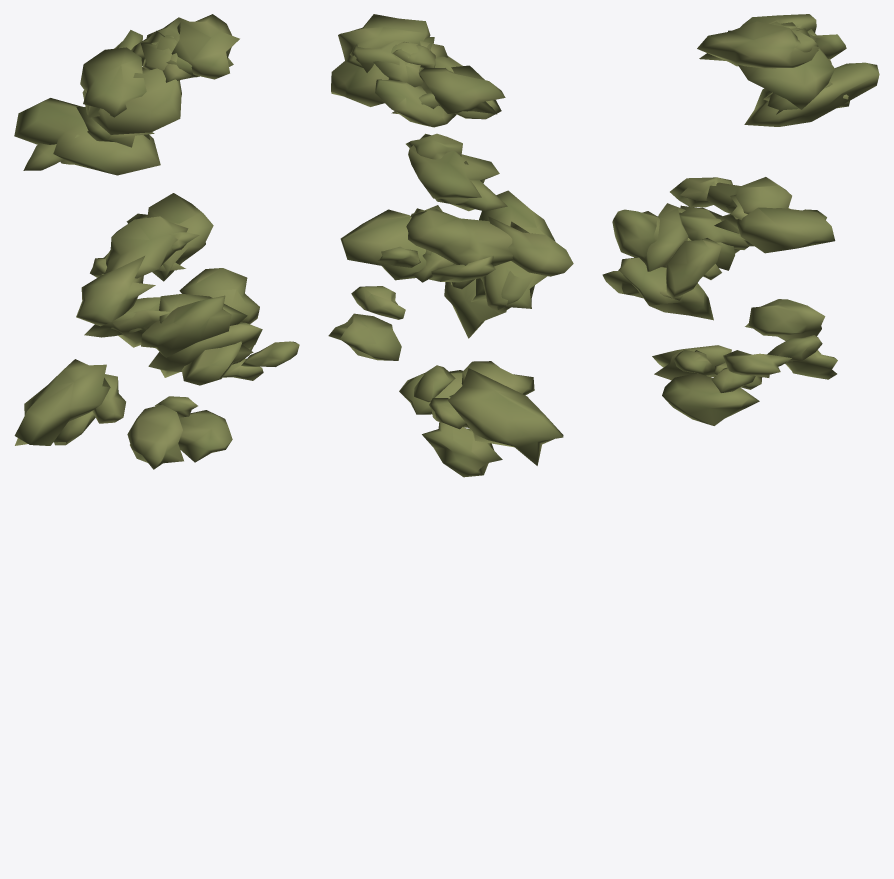
The model's file is baum-buche-0-mittel.glb.
3 views of the same model, side by side, from view 1: azimuth 30°, elevation 25°; view 2: azimuth 150°, elevation 25°; view 3: azimuth 270°, elevation 25° (orthographic).
Parts seen in each view (by area): view 1: Baum_Stamm.001; view 2: Baum_Stamm.001; view 3: Baum_Stamm.001.
Boxes of the visible parts, <box> form: Baum_Stamm.001: <box>14,14,299,469</box>; Baum_Stamm.001: <box>328,14,573,477</box>; Baum_Stamm.001: <box>602,14,879,425</box>.
Size of the model in its own units: 9.45 by 30.3 by 9.14.
